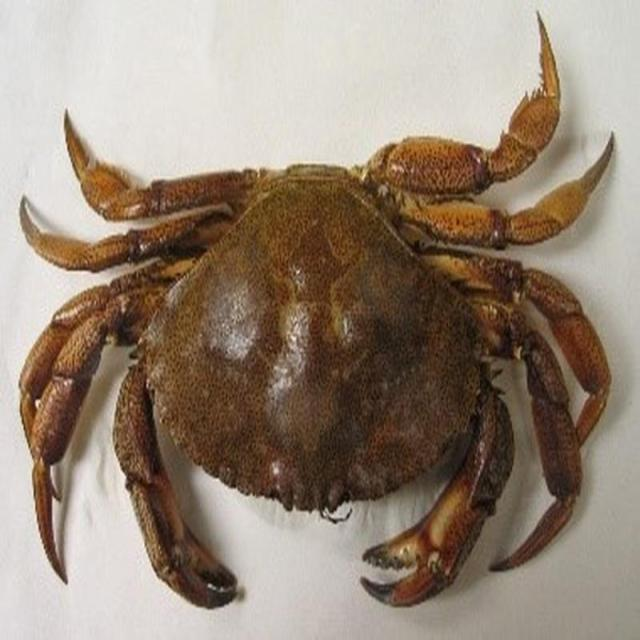Native Rock crab: (19, 15, 613, 607)
